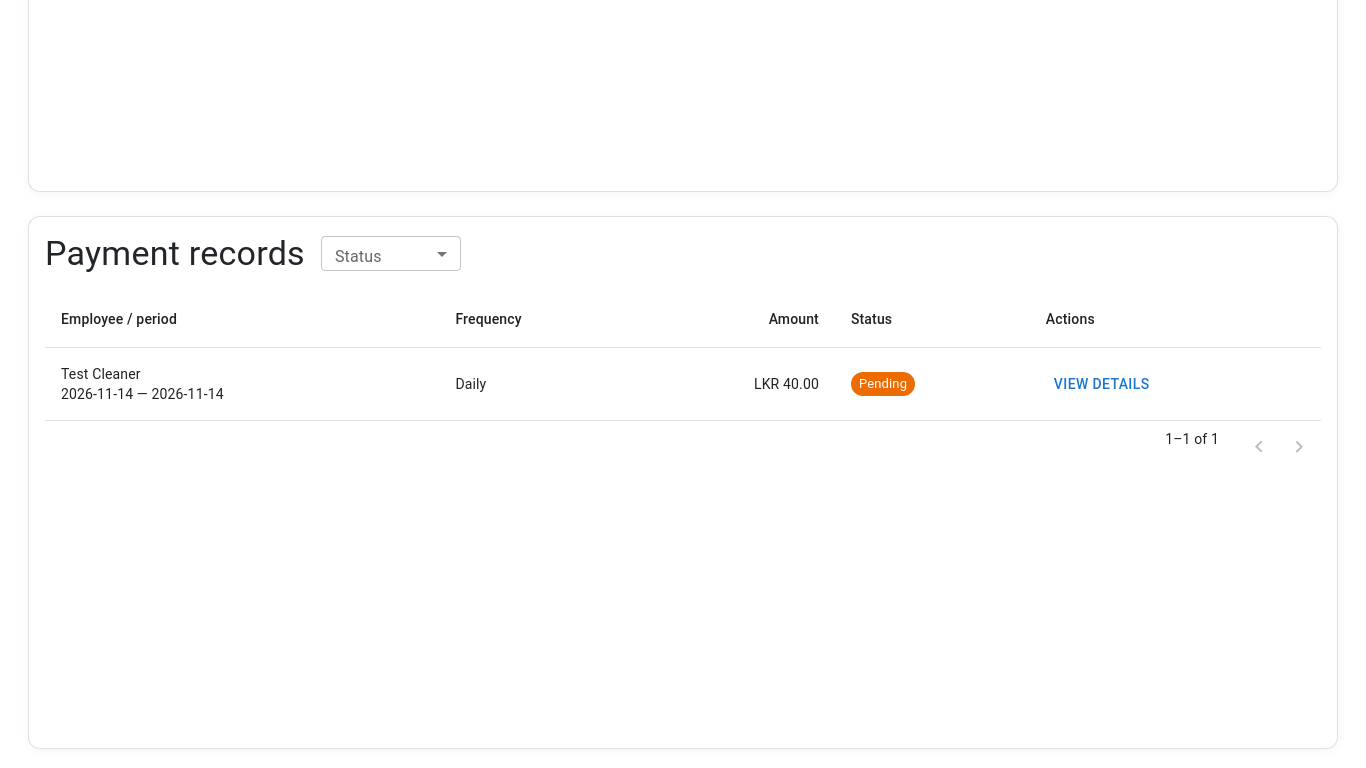
Test: managers with read permission can review prepared work without payment or receipt controls
(page scrolled)
Step 1. Click the button "View details" → point(1102, 384), box x1=1046 y1=366 x2=1158 y2=402
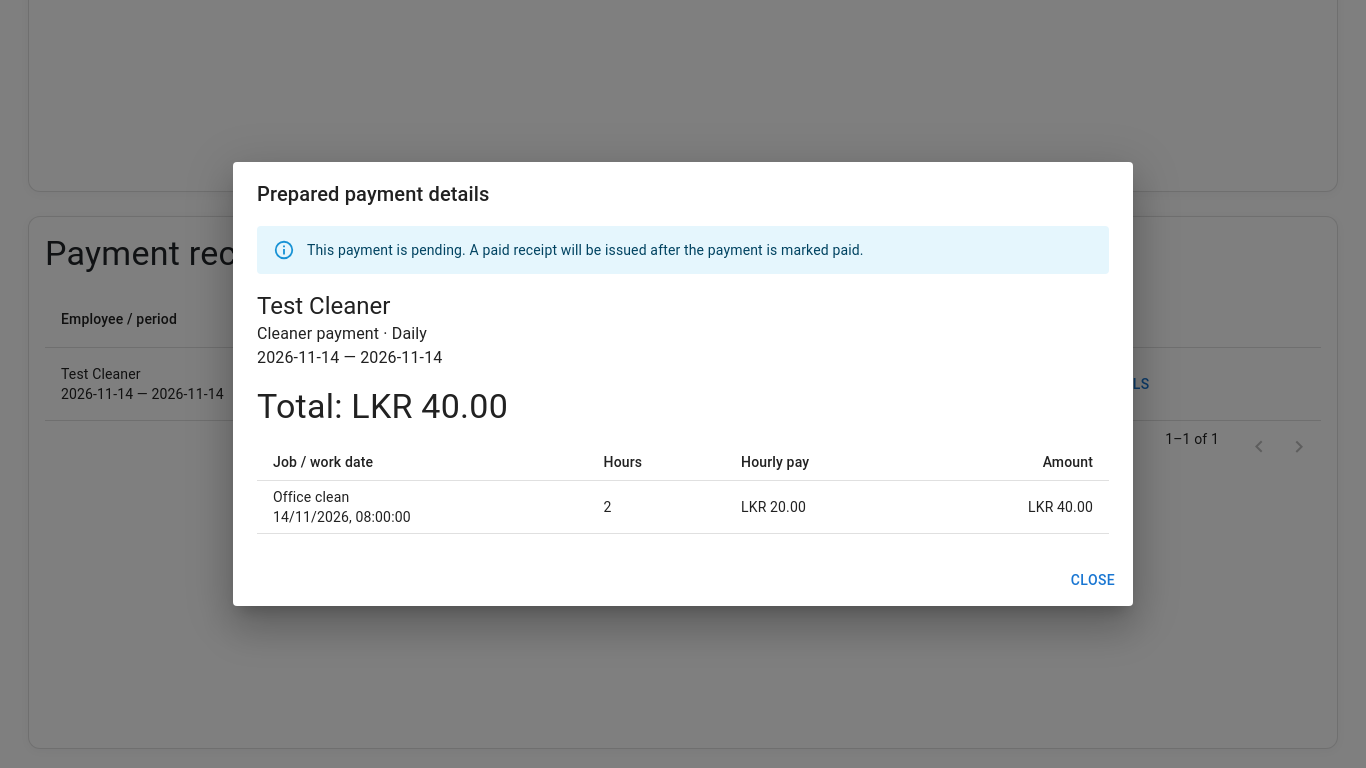
Now the text "Office clean" is shown, box x1=273 y1=489 x2=349 y2=505
Now the heading "Total: LKR 40.00" is shown, box x1=257 y1=386 x2=508 y2=426
